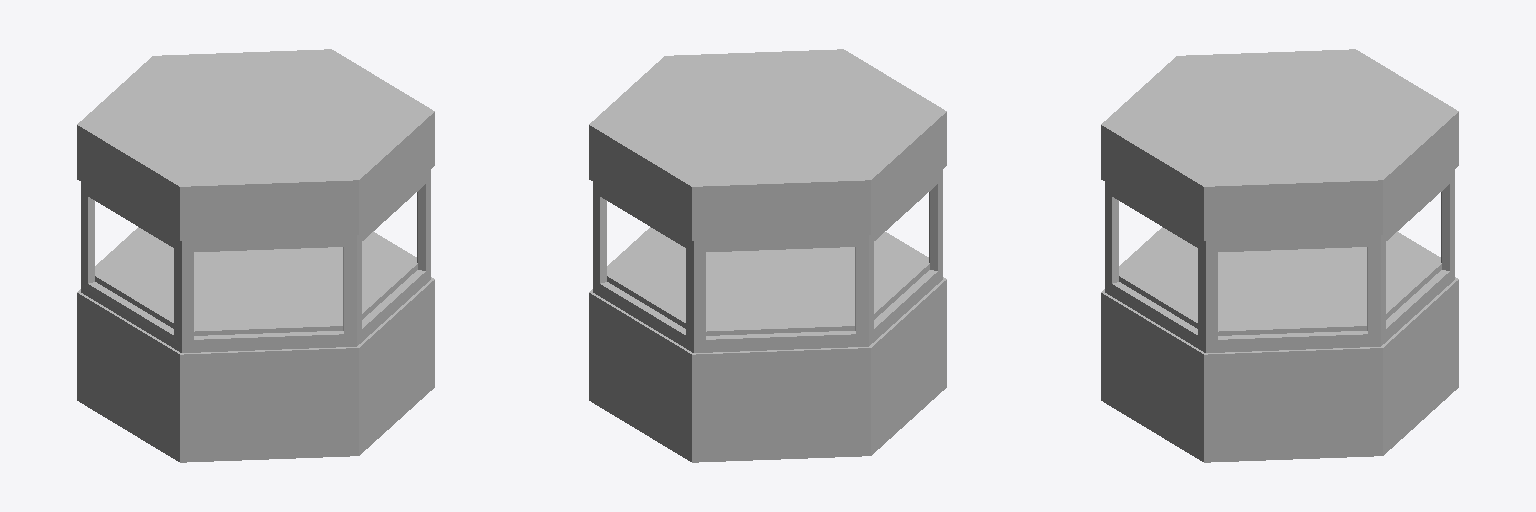
The model's file is display.obj.
The picture shows the model from 3 angles: view 1: azimuth 30°, elevation 25°; view 2: azimuth 150°, elevation 25°; view 3: azimuth 270°, elevation 25°; orthographic projection.
Visible parts, largest first — view 1: display004; view 2: display004; view 3: display004.
Part boxes in pixels (left/top/right/bottom): display004: left=77, top=49, right=434, bottom=462; display004: left=589, top=49, right=946, bottom=462; display004: left=1101, top=49, right=1458, bottom=462.
Bounding box in the file's own units: 2.29 × 2.14 × 2.52.